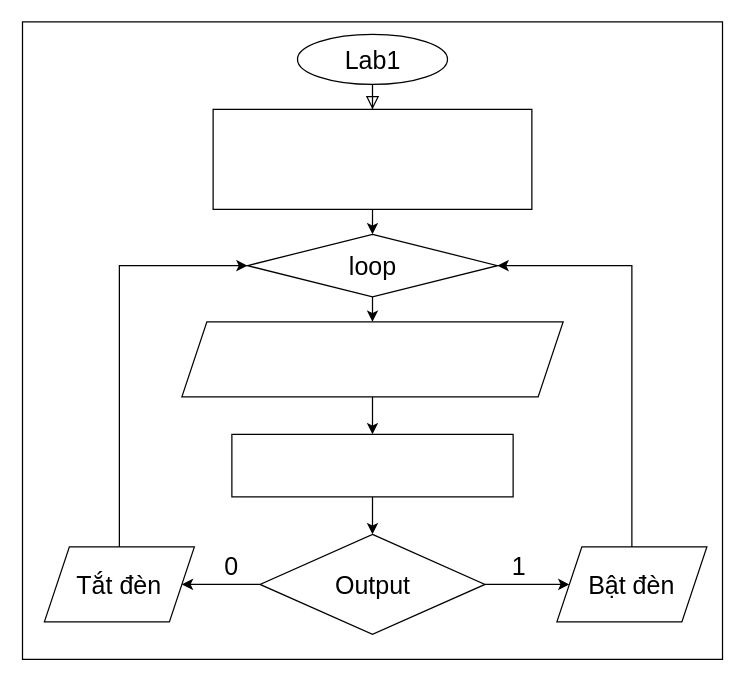
This 744x681 diagram has some shape labels left out. The shapes that lost their labels are listed below. From the top down, each one's box as (x1, y1, x2, y2) in pixels, then its label:
(212, 108, 532, 209): cài đặt clock và chế độ cho input: PD0, PD1, PD2 output: PD4/5
(181, 321, 563, 397): Nhận dữ liệu từ input
(231, 433, 513, 497): Các phép toán bitwise ra Output
